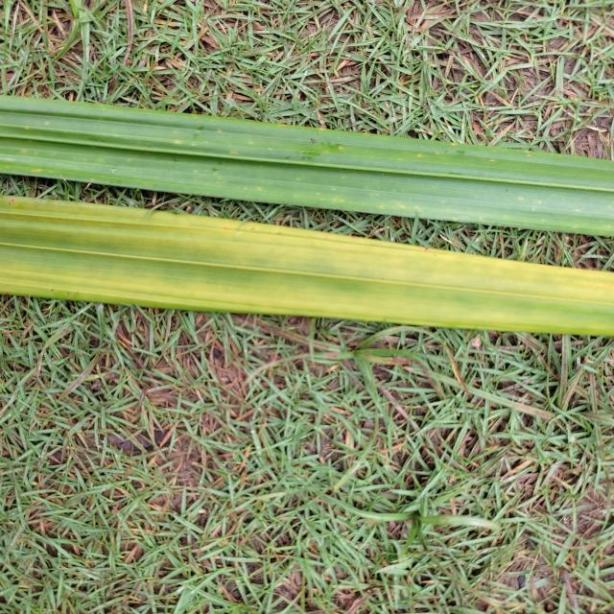nitrogen: (1, 86, 614, 230), (0, 198, 614, 328)
